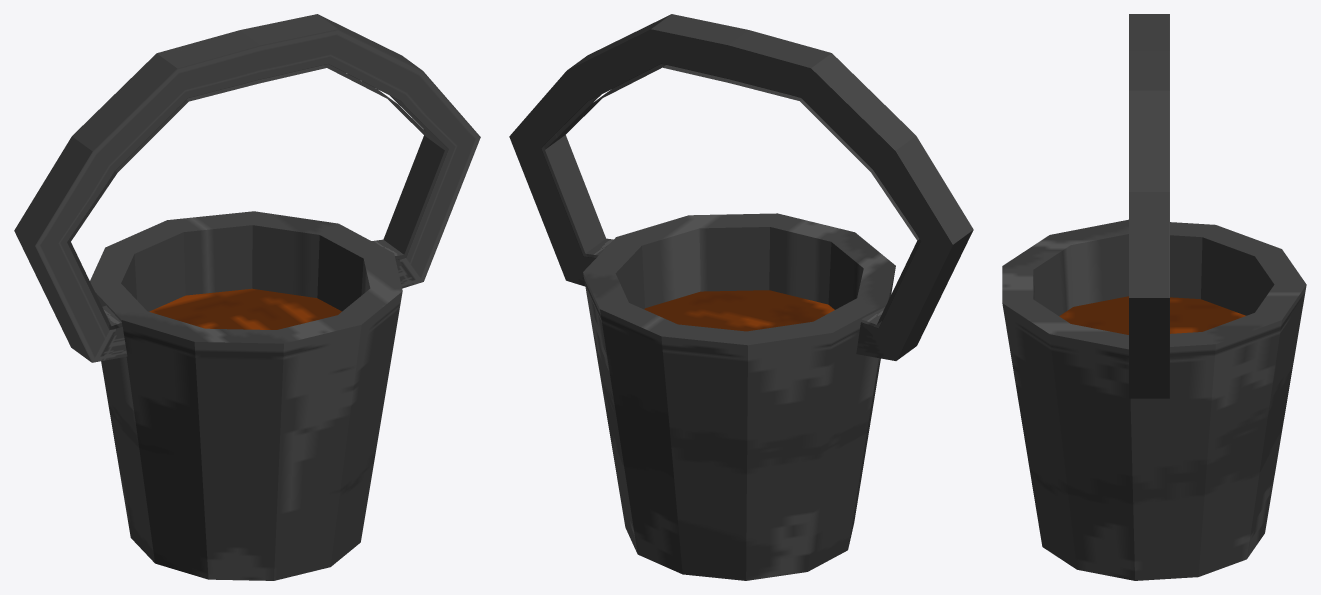
File: Bucket.fbx
The picture shows the model from 3 angles, left to right: view 1: azimuth 30°, elevation 25°; view 2: azimuth 150°, elevation 25°; view 3: azimuth 270°, elevation 25°; orthographic projection. The views are drawn at different scales.
Visible parts, largest first — view 1: Cylinder, Cylinder.001; view 2: Cylinder, Cylinder.001; view 3: Cylinder, Cylinder.001.
Part boxes in pixels (bbox=[...]): Cylinder: bbox=[90, 211, 402, 580]; Cylinder.001: bbox=[14, 14, 480, 362]; Cylinder: bbox=[583, 213, 895, 580]; Cylinder.001: bbox=[509, 14, 973, 360]; Cylinder: bbox=[1002, 219, 1306, 580]; Cylinder.001: bbox=[1129, 14, 1169, 398].
Bounding box in the file's own units: 171 × 182 × 104.
2 materials, 2 textured.
